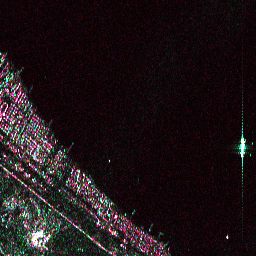ship: (238, 137, 246, 158)
